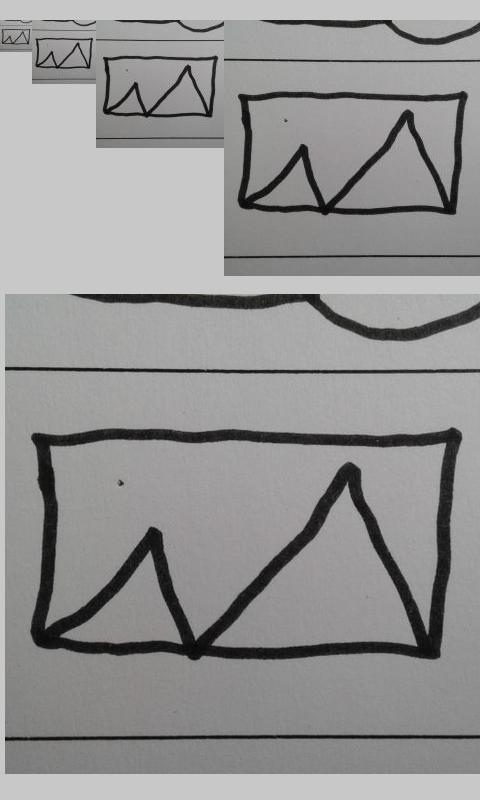image_view: (25, 429, 457, 662), (238, 92, 468, 216), (103, 55, 218, 120), (35, 37, 94, 69), (1, 28, 31, 45)
